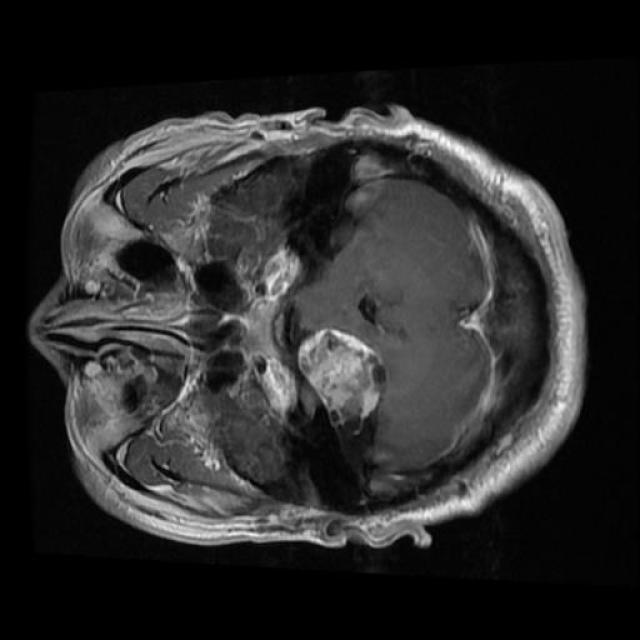Meningioma: (299, 330, 383, 438)
